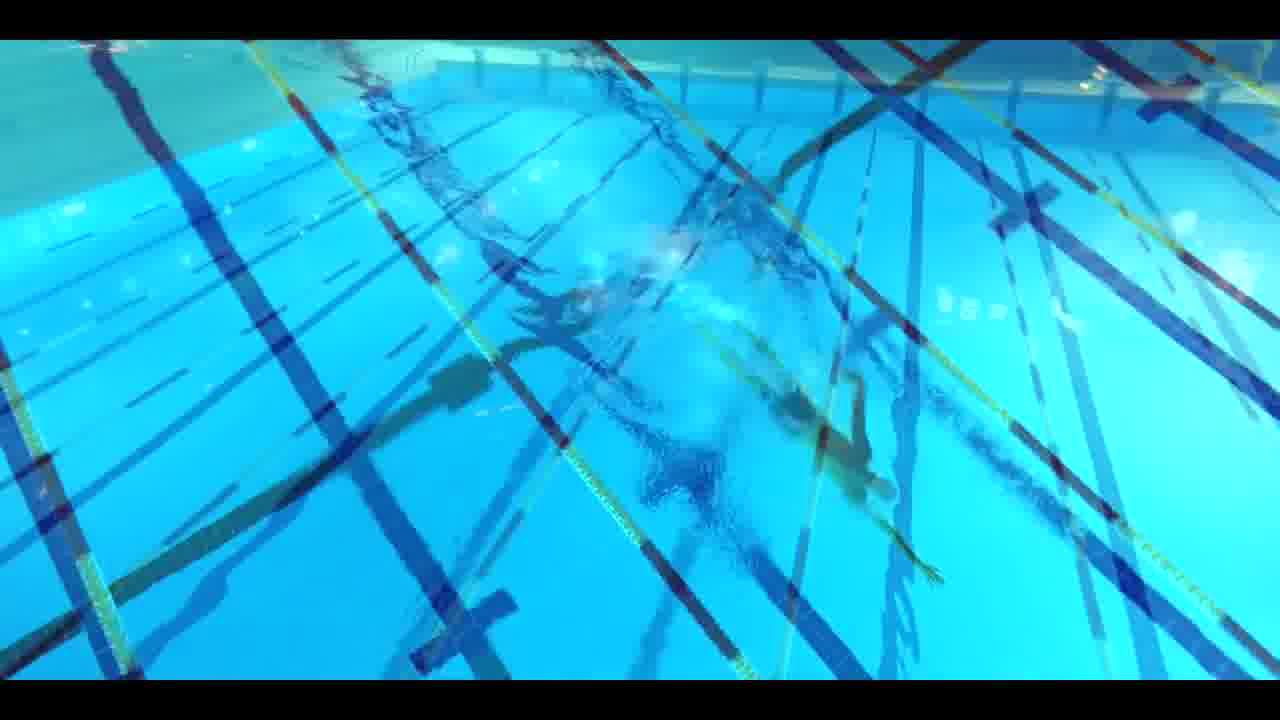human: (736, 332, 929, 566)
